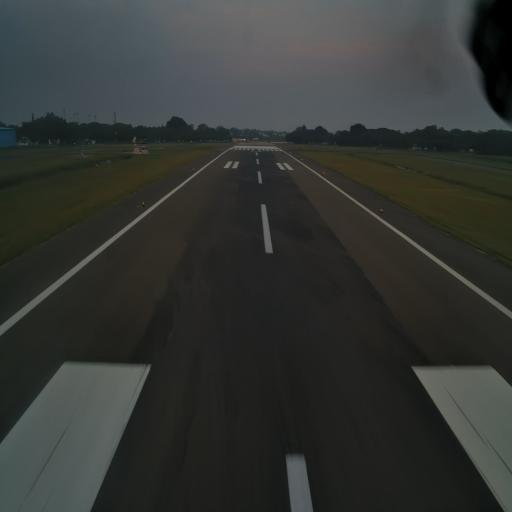on: (141, 198, 146, 208), (378, 206, 384, 214)
